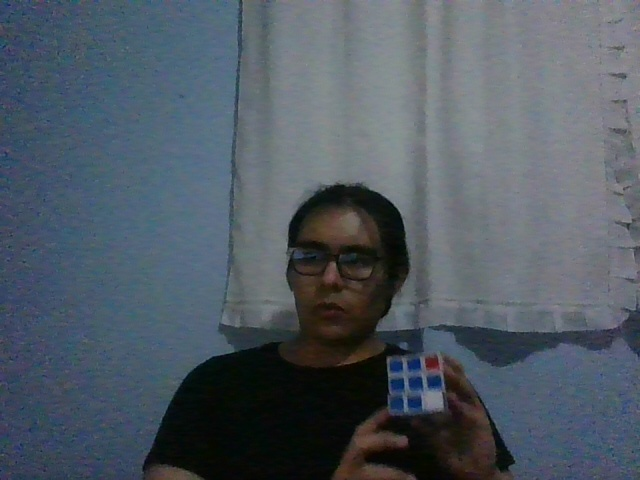rubik: (386, 351, 448, 417)
